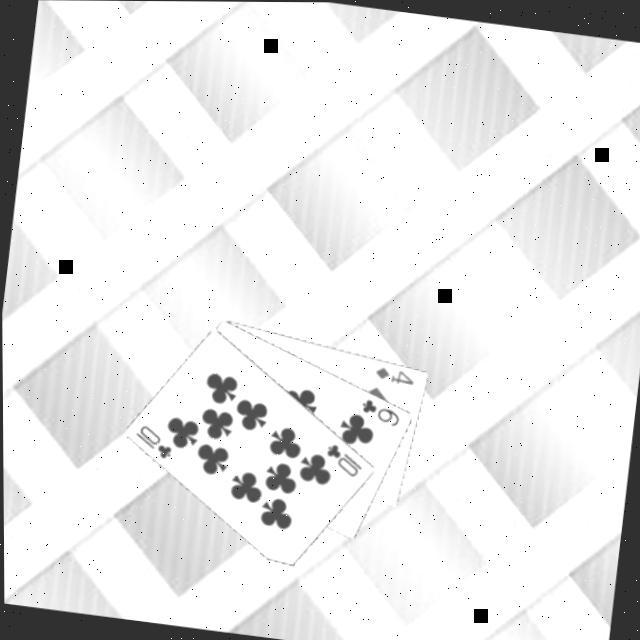10C: (130, 421, 178, 464), (320, 439, 368, 481)
4D: (371, 362, 418, 389)
6C: (357, 394, 404, 429)
